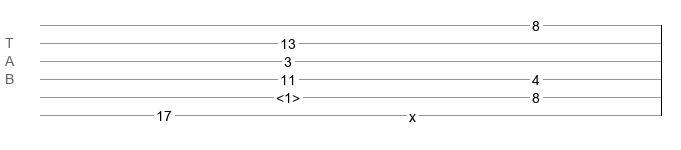11: (280, 72, 296, 82)
13: (280, 36, 296, 46)
17: (156, 108, 172, 118)
3: (284, 54, 292, 64)
4: (532, 72, 540, 82)
8: (532, 18, 540, 28), (532, 90, 540, 100)
harmonic: (276, 90, 300, 100)
x: (409, 109, 416, 117)
